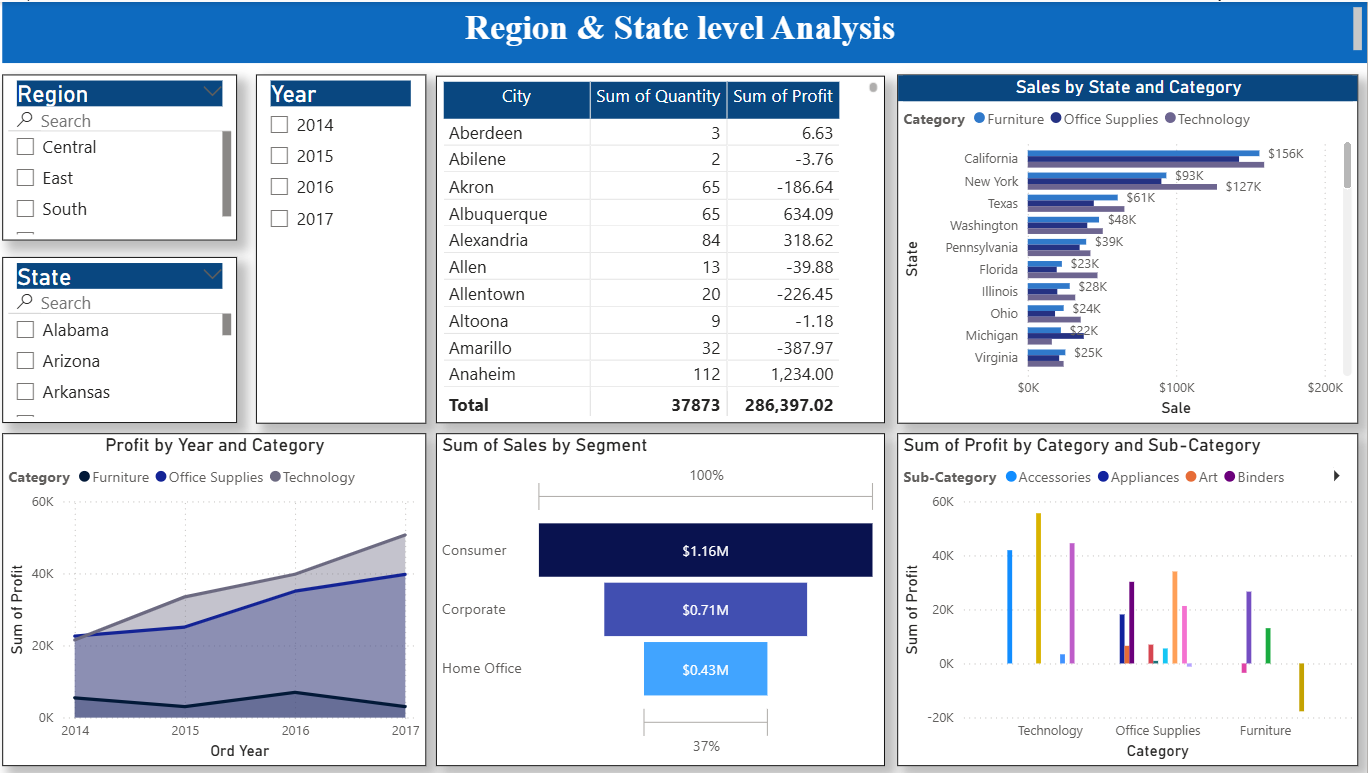

The dashboard page shown, as its layout file describes it:
{"tool":"powerbi","page":{"name":"Region & State","canvas":[1280,720],"ordinal":1},"visuals":[{"type":"textbox","box":[10.5,0,1269.8,57],"z":0},{"type":"slicer","fields":{"Values":["Superstore.Region"]},"box":[10.5,67.4,218.6,154.7],"z":1000},{"type":"slicer","fields":{"Values":["Superstore.State"]},"box":[10.5,237.2,218.6,154.7],"z":2000},{"type":"slicer","fields":{"Values":["Superstore.Ord Year"]},"box":[246.5,67.4,158.1,324.4],"z":3000},{"type":"tableEx","fields":{"Values":["Superstore.City","Sum(Superstore.Quantity)","Sum(Superstore.Profit)"]},"box":[414,68.6,417.4,323.3],"z":4000},{"type":"clusteredBarChart","title":"Sales by State and Category","fields":{"Series":["Superstore.Category"],"Category":["Superstore.State"],"Y":["Sum(Superstore.Sales)"]},"box":[843,67.4,429.1,324.4],"z":5000},{"type":"areaChart","title":"Profit by Year and Category","fields":{"Category":["Superstore.Ord Year"],"Series":["Superstore.Category"],"Y":["Sum(Superstore.Profit)"]},"box":[10.5,401.2,394.2,309.3],"z":6000},{"type":"funnel","fields":{"Y":["Sum(Superstore.Sales)"],"Category":["Superstore.Segment"]},"box":[414,401.2,417.4,309.3],"z":7000},{"type":"lineClusteredColumnComboChart","fields":{"Y":["Sum(Superstore.Profit)"],"Category":["Superstore.Category"],"Series":["Superstore.Sub-Category"]},"box":[843,401.2,429.1,309.3],"z":8000}]}

Visuals, with their boxes in screenshot pixels (x1, y1, x2, y2), scaled from the page's 1280x720 canvas onto the 1368x773 screenshot:
textbox: {"left": 11, "top": 0, "right": 1367, "bottom": 61}
slicer - Superstore.Region: {"left": 11, "top": 72, "right": 245, "bottom": 238}
slicer - Superstore.State: {"left": 11, "top": 255, "right": 245, "bottom": 421}
slicer - Superstore.Ord Year: {"left": 263, "top": 72, "right": 432, "bottom": 421}
tableEx - Superstore.City x Sum(Superstore.Quantity): {"left": 442, "top": 74, "right": 889, "bottom": 421}
"Sales by State and Category" clusteredBarChart: {"left": 901, "top": 72, "right": 1360, "bottom": 421}
"Profit by Year and Category" areaChart: {"left": 11, "top": 431, "right": 433, "bottom": 763}
funnel - Sum(Superstore.Sales) x Superstore.Segment: {"left": 442, "top": 431, "right": 889, "bottom": 763}
lineClusteredColumnComboChart - Sum(Superstore.Profit) x Superstore.Category: {"left": 901, "top": 431, "right": 1360, "bottom": 763}
